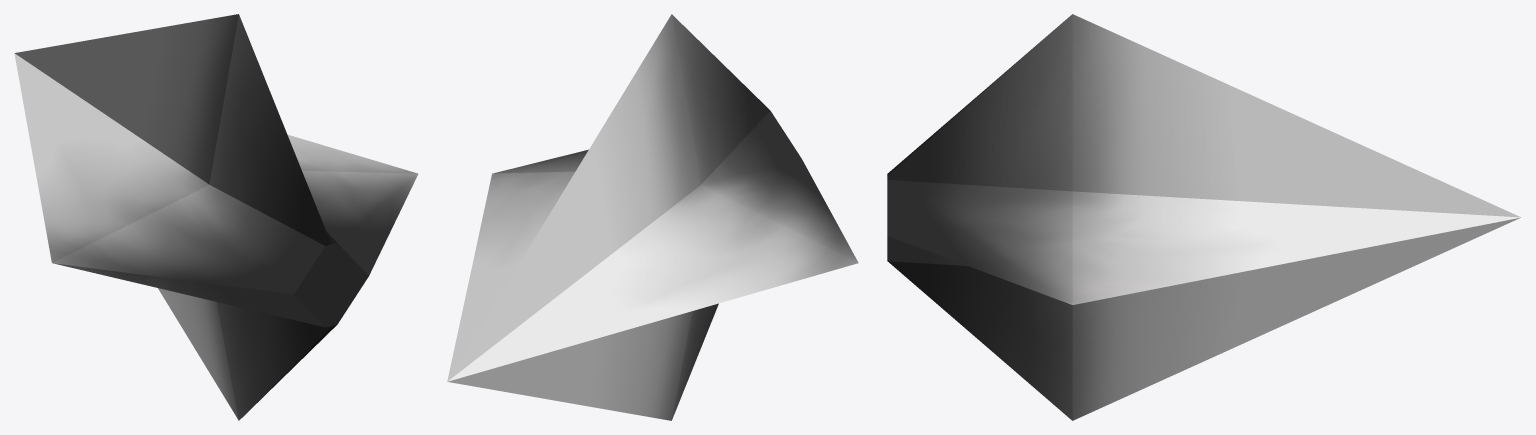
File: SpikeTop.fbx
3 renders of one model, left to right at view 1: azimuth 30°, elevation 25°; view 2: azimuth 150°, elevation 25°; view 3: azimuth 270°, elevation 25°, orthographic.
Parts seen in each view (by area): view 1: TopSpike; view 2: TopSpike; view 3: TopSpike.
Part boxes in pixels (x1,y1,x2,y2): TopSpike: (14,14,418,420); TopSpike: (447,14,858,420); TopSpike: (887,14,1521,420).
Size of the model in its own units: 189 by 200 by 282.
